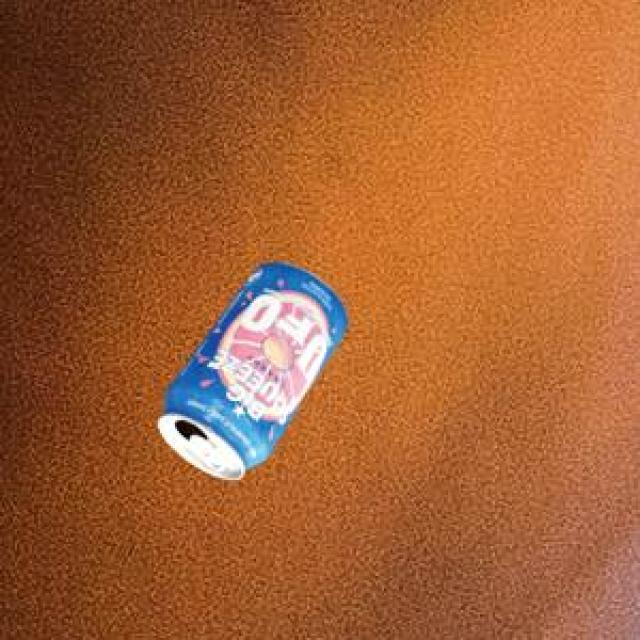logam: (155, 259, 345, 477)
